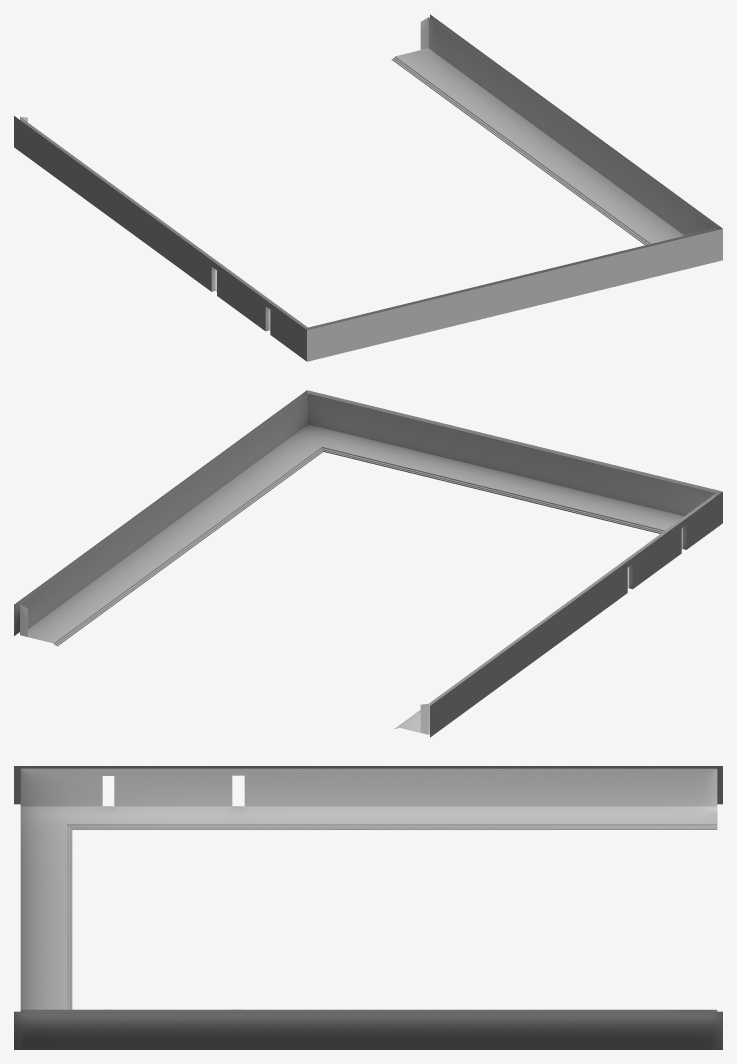
File: court-walls.glb
The picture shows the model from 3 angles, top to bottom: view 1: azimuth 30°, elevation 25°; view 2: azimuth 150°, elevation 25°; view 3: azimuth 270°, elevation 25°; orthographic projection. The views are drawn at different scales.
Visible parts, largest first — view 1: Plane; view 2: Plane; view 3: Plane.
Boxes of the visible parts, x1=… form: Plane: x1=14, y1=14, x2=722, y2=361; Plane: x1=14, y1=390, x2=722, y2=737; Plane: x1=14, y1=766, x2=722, y2=1049.
Bounding box in the file's own units: 108 × 8.45 × 131.
1 material, 1 textured.
